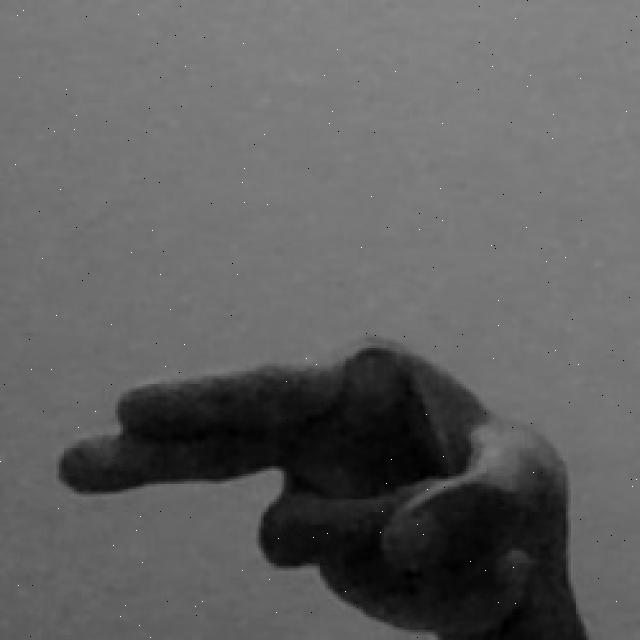H: (48, 332, 593, 640)
